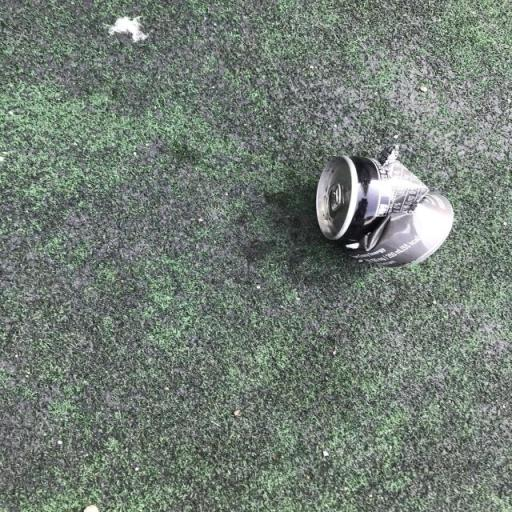metal: (299, 139, 472, 291)
